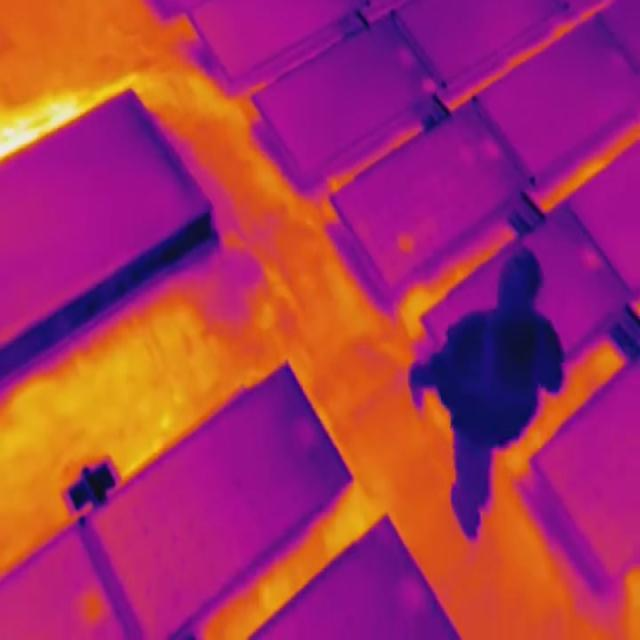Orange-Spots: (397, 228, 418, 256)
